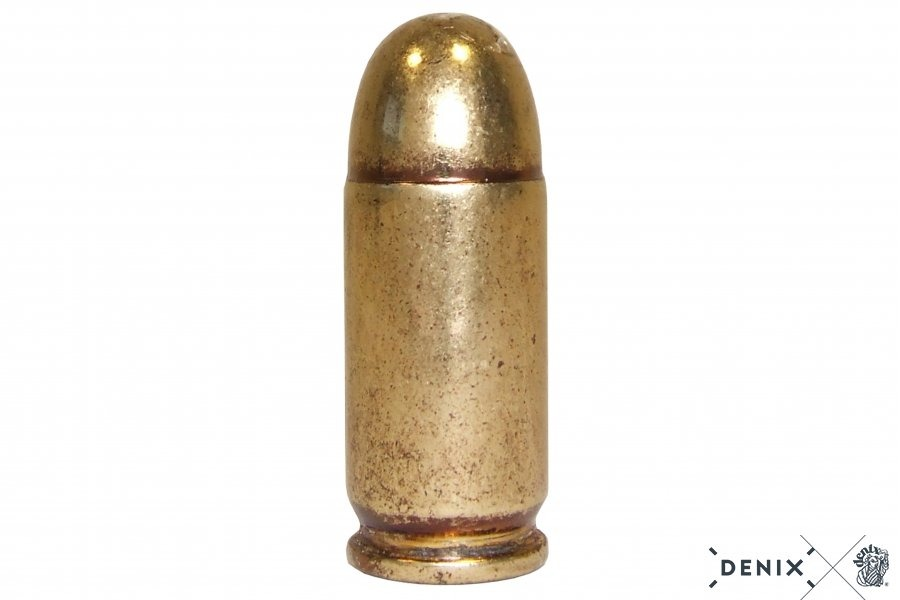bullet: (334, 8, 552, 589)
